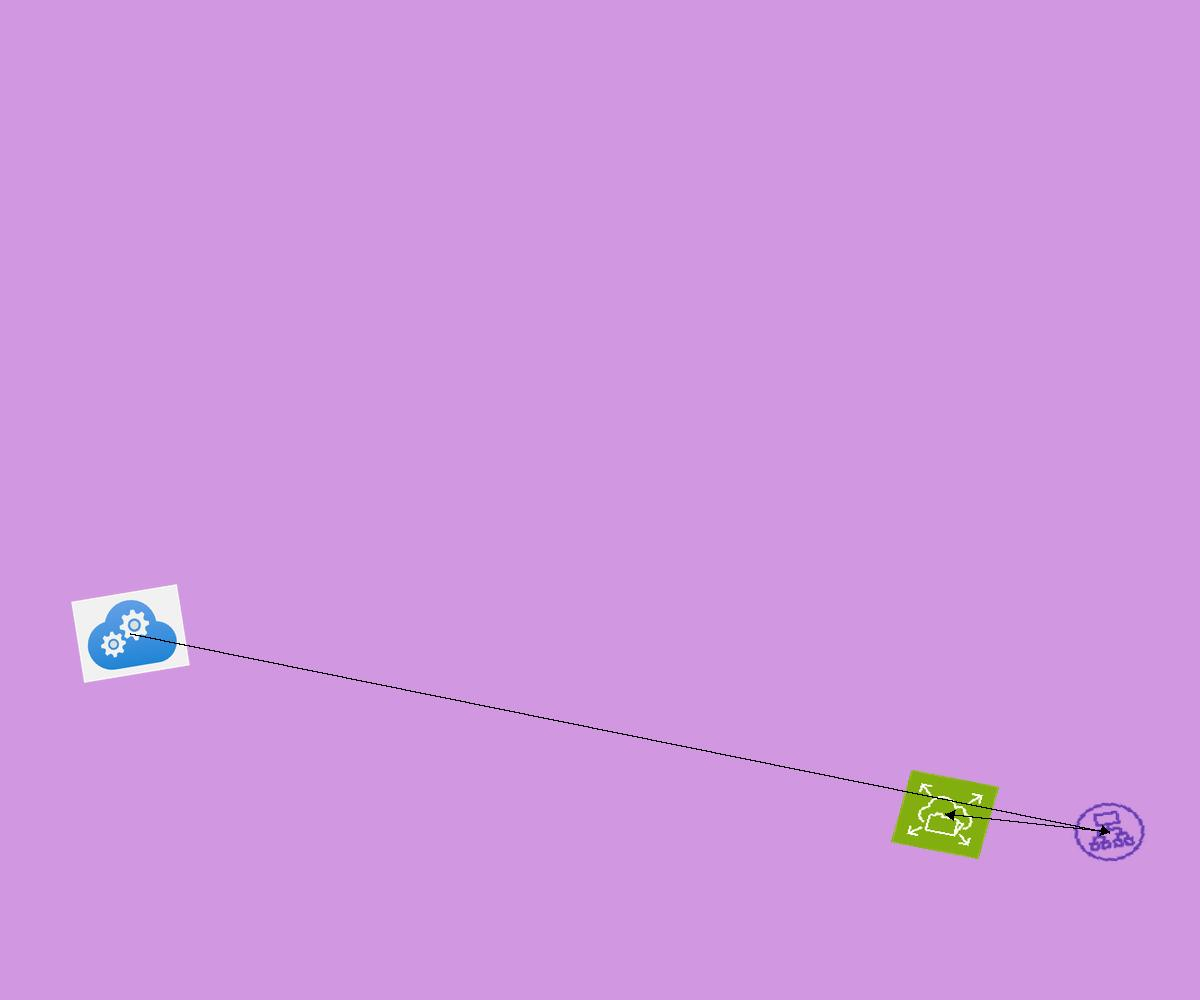AWS-EFS: (890, 769, 1000, 860)
AWS-Res_Elastic-Load-Balancing_Application-Load-Balancer: (1065, 795, 1154, 869)
Azure_cloud_services: (71, 584, 190, 683)
